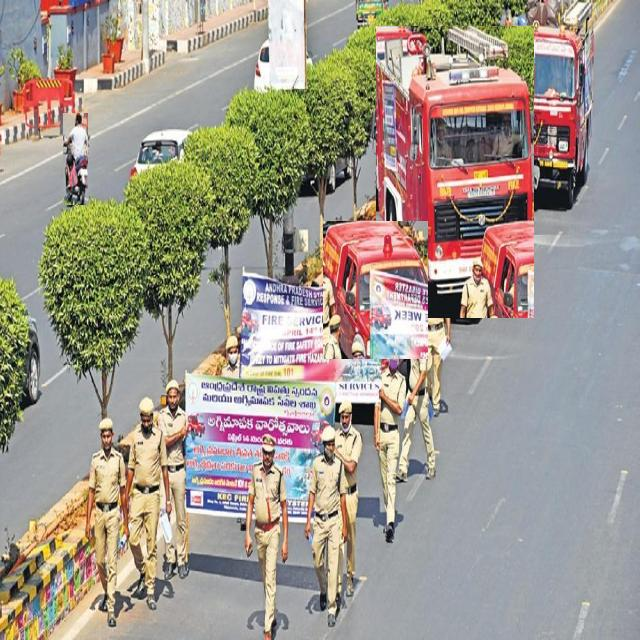car: (130, 130, 190, 177)
emergency: (376, 26, 534, 318), (492, 0, 594, 207), (324, 222, 428, 359)
motorcycle: (64, 113, 88, 205)
